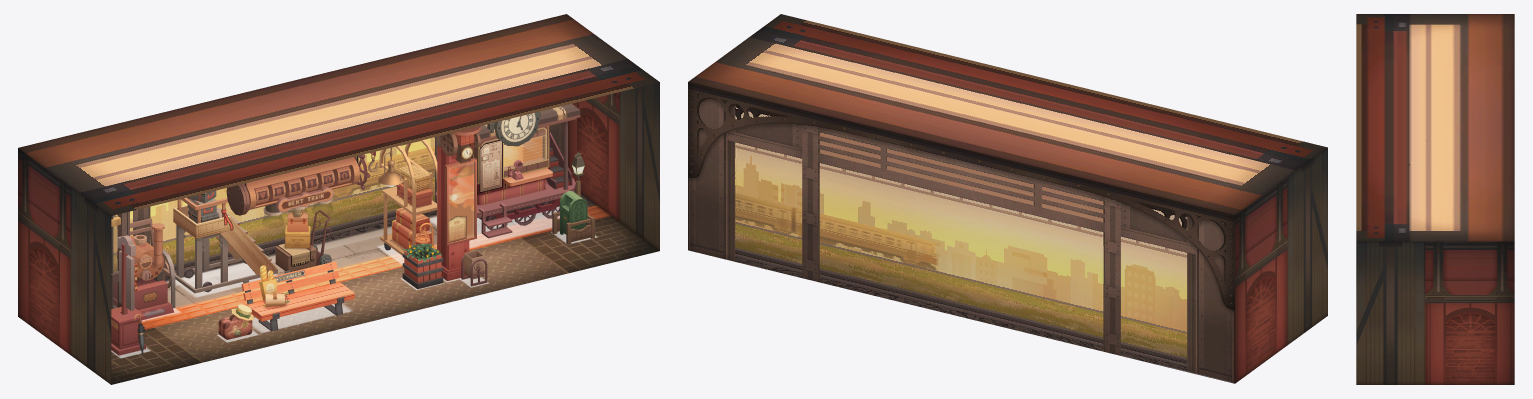
File: trainStation.glb
The picture shows the model from 3 angles, left to right: view 1: azimuth 30°, elevation 25°; view 2: azimuth 150°, elevation 25°; view 3: azimuth 270°, elevation 25°; orthographic projection. The views are drawn at different scales.
Visible parts, largest first — view 1: ROOM_room, ROOM_floor, furni_trainStation_ticketOffice_01, furni_trainStation_pillar_01, furni_trainStation_ladder_01, furni_trainStation_scheduleDisplay_02, furni_trainStation_bench_01, furni_trainStation_boxshelf_01, furni_trainStation_brand_01, furni_trainStation_steamEngine_01, furni_trainStation_cart_01, furni_trainStation_Mailbox_01 (+14 smaller); view 2: ROOM_room, ROOM_LDoor; view 3: ROOM_room, ROOM_RDoor.
Part boxes in pixels (box(x1,y1,x2,y2)): ROOM_room: box(18, 14, 659, 384); ROOM_floor: box(111, 189, 659, 384); furni_trainStation_ticketOffice_01: box(435, 103, 580, 238); furni_trainStation_pillar_01: box(437, 126, 487, 286); furni_trainStation_ladder_01: box(173, 190, 277, 293); furni_trainStation_scheduleDisplay_02: box(226, 154, 370, 215); furni_trainStation_bench_01: box(241, 260, 354, 331); furni_trainStation_boxshelf_01: box(378, 139, 437, 255); furni_trainStation_brand_01: box(111, 235, 145, 355); furni_trainStation_steamEngine_01: box(113, 234, 175, 320); furni_trainStation_cart_01: box(275, 208, 331, 271); furni_trainStation_Mailbox_01: box(552, 152, 594, 244); ROOM_room: box(688, 14, 1327, 383); ROOM_LDoor: box(1295, 249, 1314, 339); ROOM_room: box(1356, 14, 1514, 384); ROOM_RDoor: box(1379, 319, 1412, 384).
Bounding box in the file's own units: 7.5 × 2.2 × 2.25.
8 materials, 8 textured.
